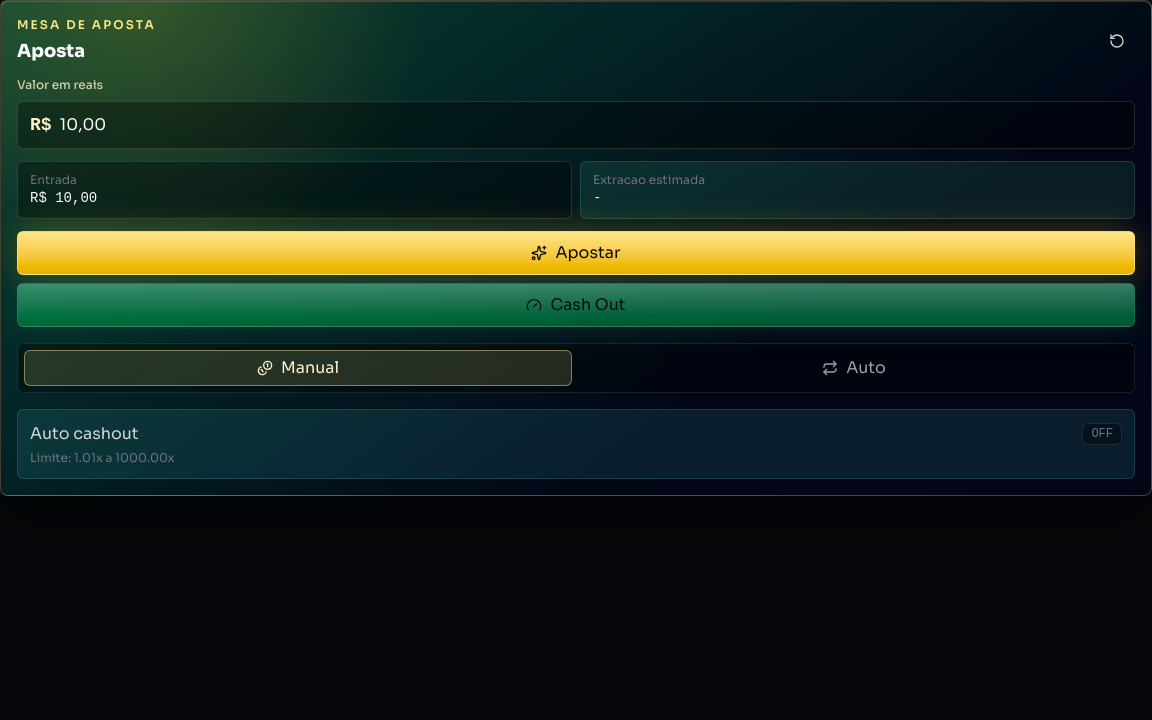
Test: game dashboard helpers › disables martingale auto bet when strategy fields are invalid
Click the button "Auto": (854, 368) [580,350,1128,386]
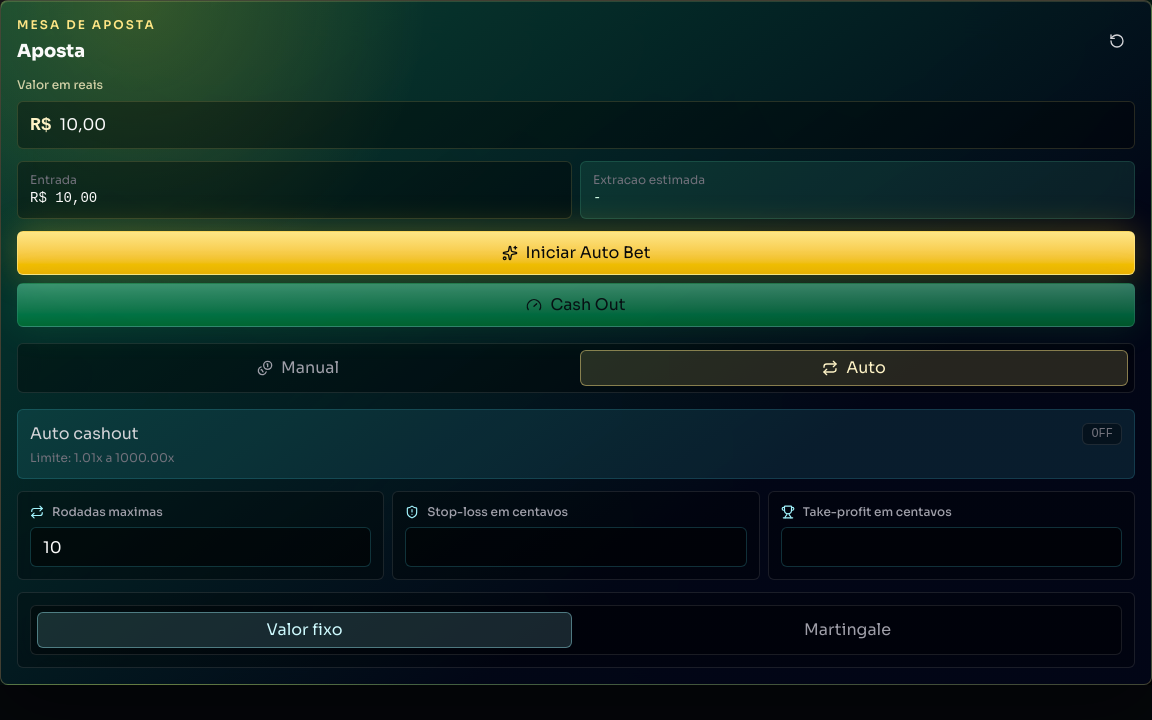
Click the button "Martingale": (848, 630) [580,612,1115,648]
(page scrolled)
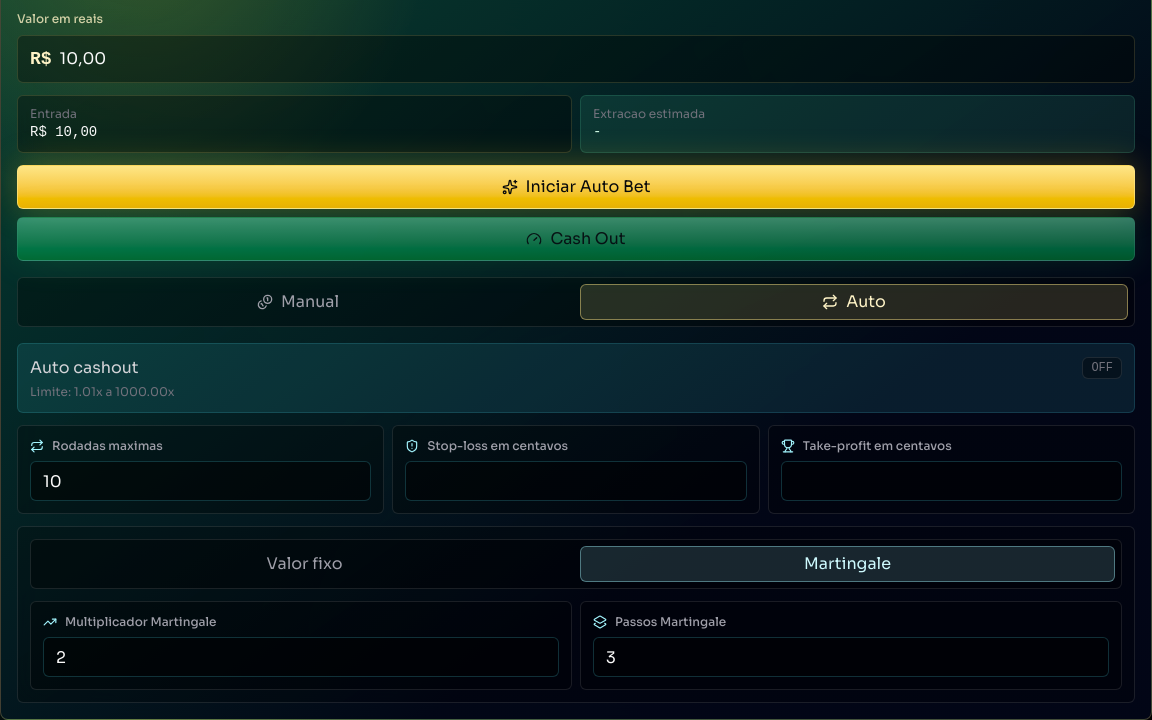
Replace the text in the field labelled "Multiplicador Martingale" with "1": (301, 657) [43,637,559,677]
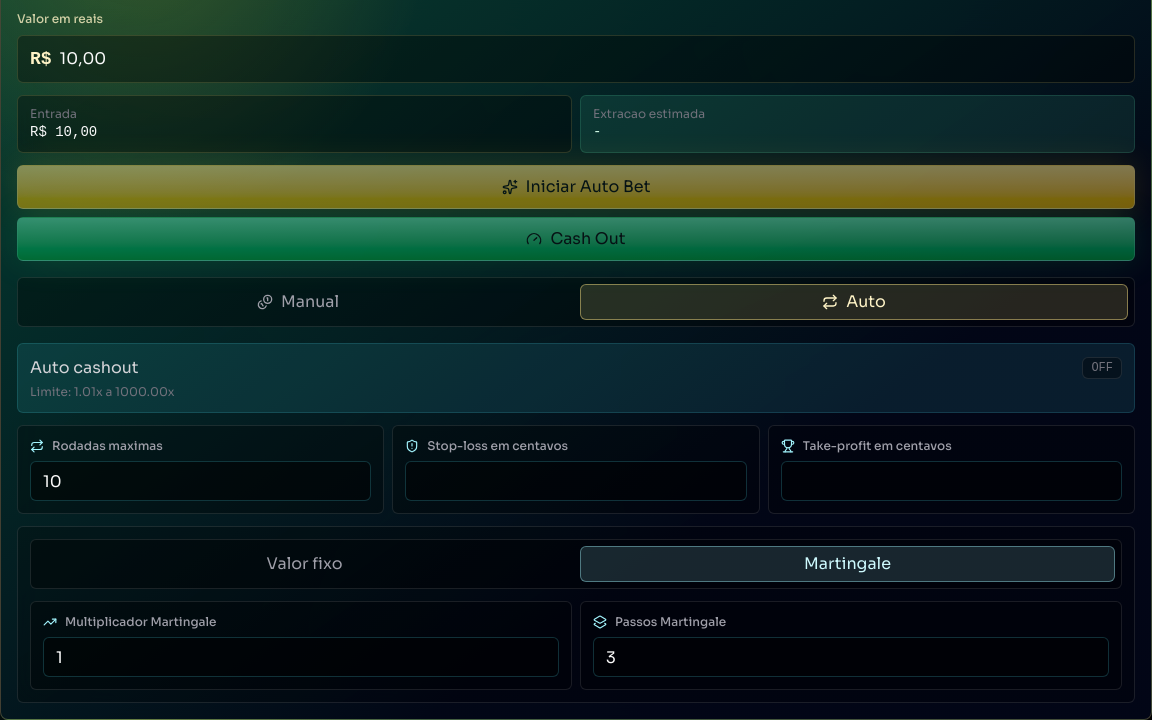
Expected: the button "Iniciar Auto Bet" is disabled, [17,165,1135,209]
Replace the text in the field labelled "Multiplicador Martingale" with "2": (301, 657) [43,637,559,677]
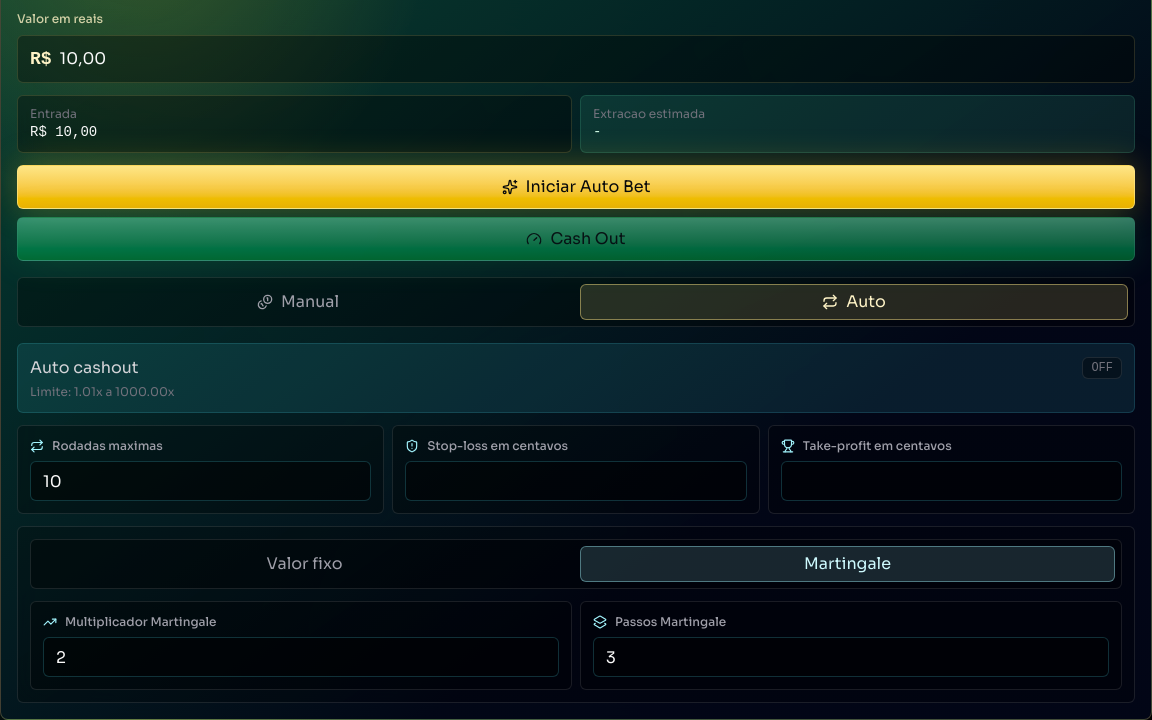
Replace the text in the field labelled "Passos Martingale" with "11": (851, 657) [593,637,1109,677]
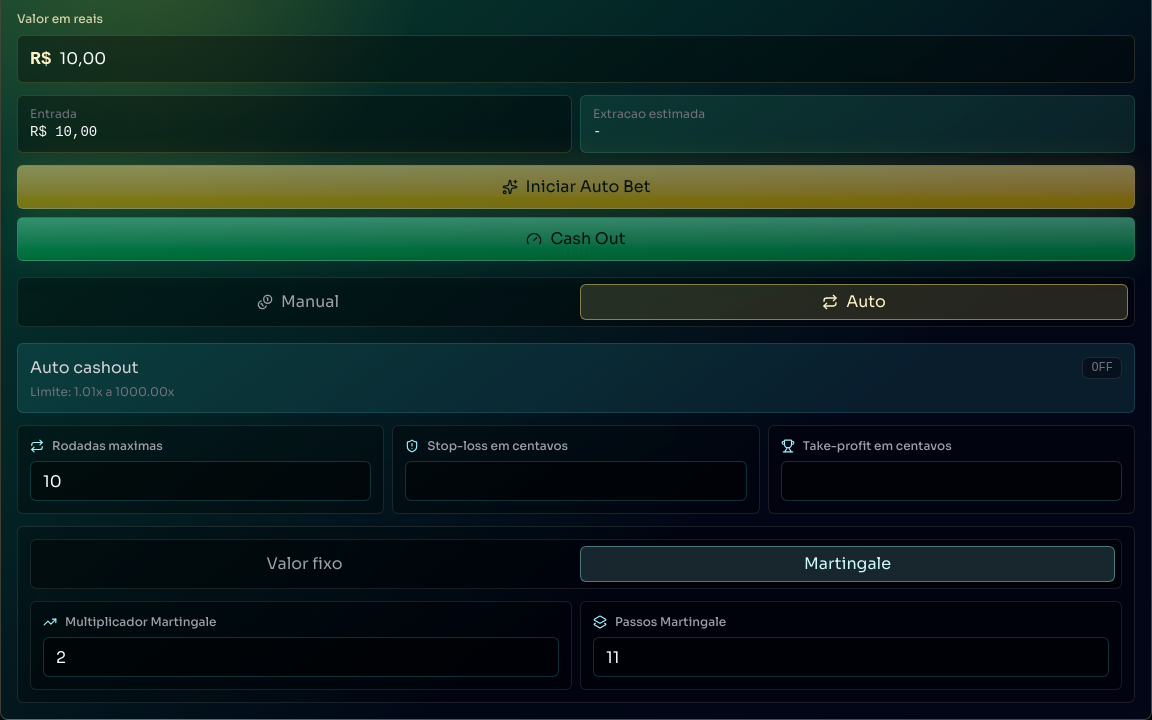
Expected: the button "Iniciar Auto Bet" is disabled, [17,165,1135,209]
